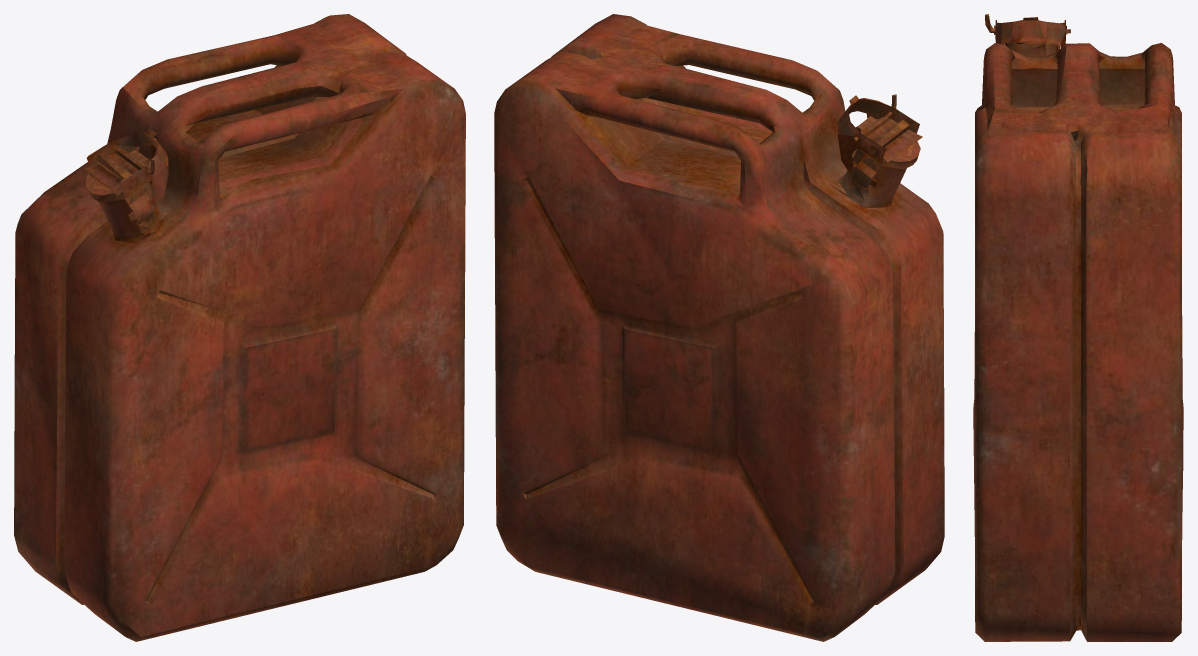
File: metal_jerrycan.glb
3 renders of one model, left to right at view 1: azimuth 30°, elevation 25°; view 2: azimuth 150°, elevation 25°; view 3: azimuth 270°, elevation 25°, orthographic. The views are drawn at different scales.
Parts seen in each view (by area): view 1: metal_jerrycan; view 2: metal_jerrycan; view 3: metal_jerrycan.
Boxes of the visible parts, bbox=[...] form: metal_jerrycan: bbox=[14, 14, 465, 641]; metal_jerrycan: bbox=[494, 14, 944, 641]; metal_jerrycan: bbox=[973, 14, 1183, 641].
Size of what is drawn, in the model's own units: 0.3496 by 0.4546 by 0.1723.
1 material, 1 textured.
